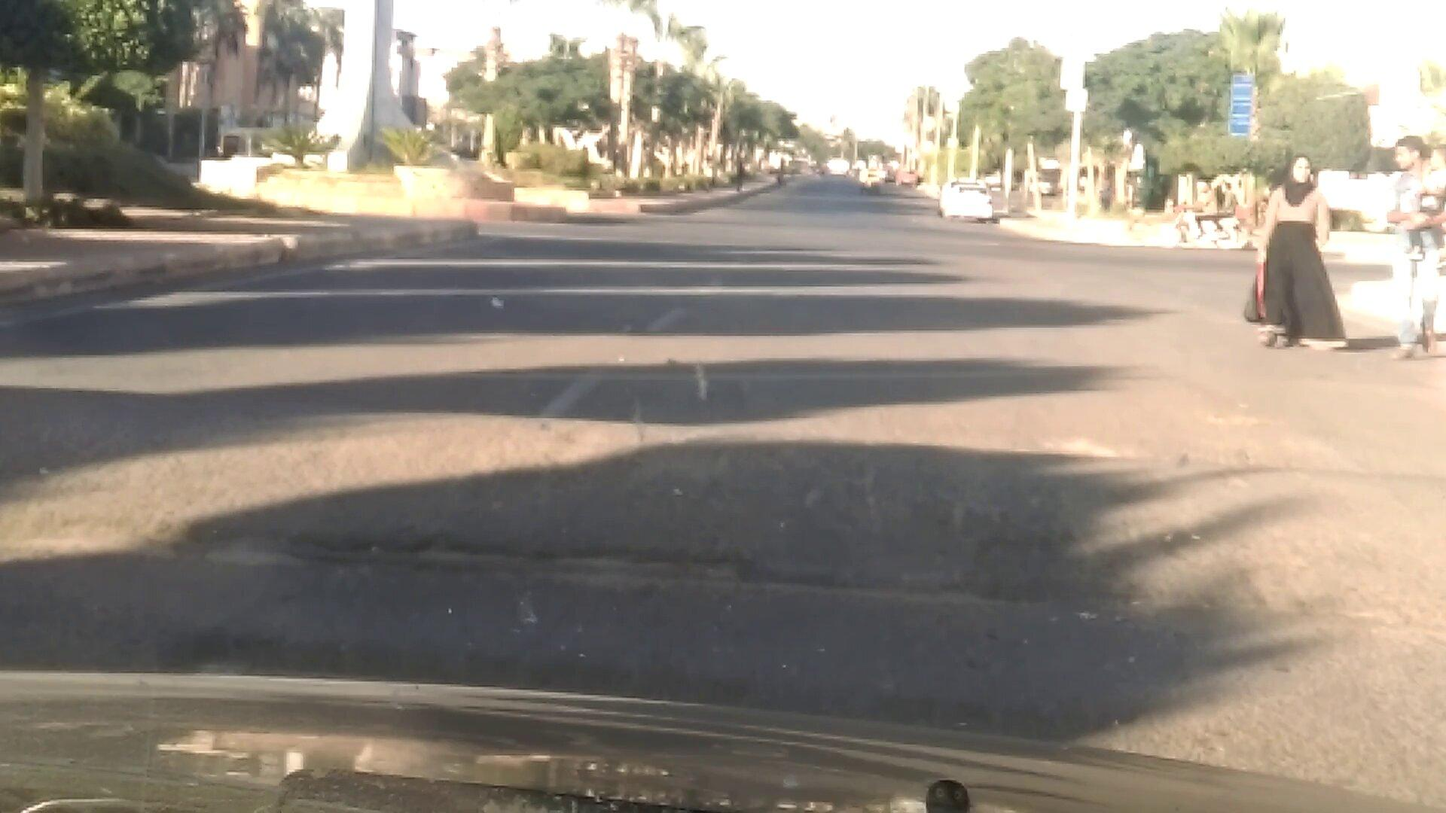Bump: (0, 394, 1445, 632)
